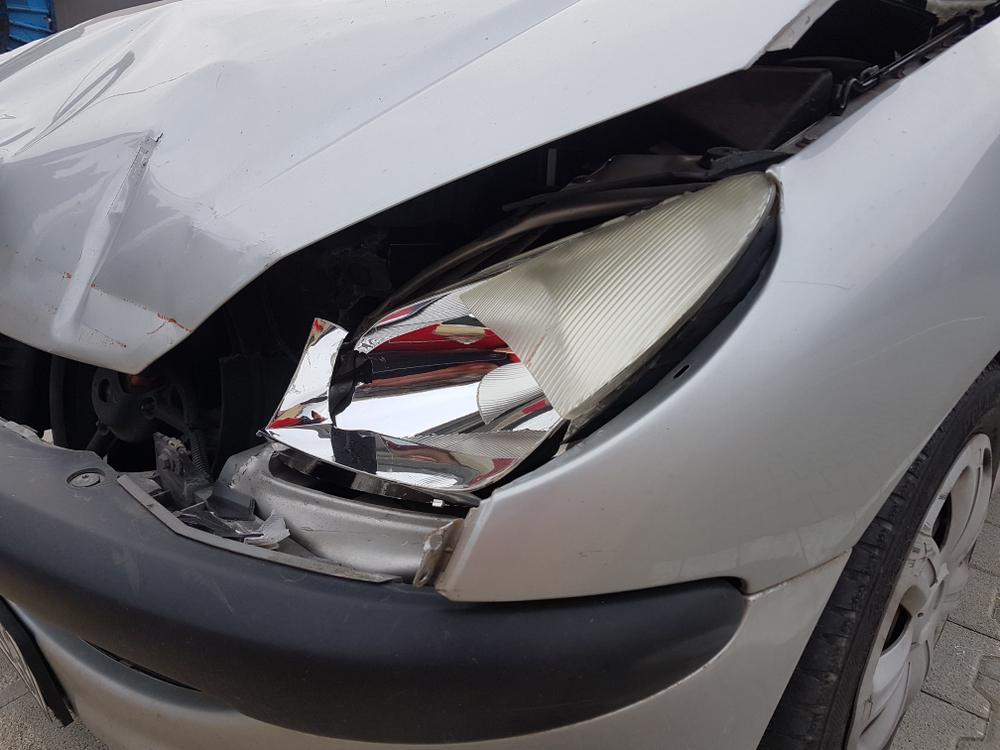dent: (5, 13, 252, 363)
lamp broken: (261, 169, 768, 496)
